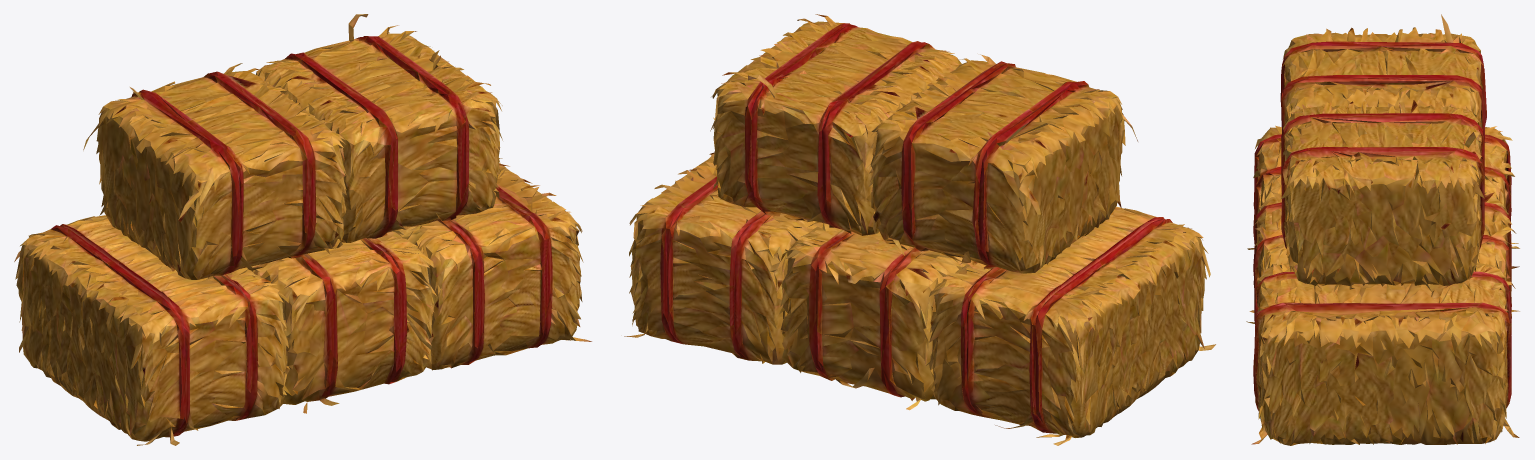
Rendered from prop_hay.glb.
The picture shows the model from 3 angles, left to right: view 1: azimuth 30°, elevation 25°; view 2: azimuth 150°, elevation 25°; view 3: azimuth 270°, elevation 25°; orthographic projection. The views are drawn at different scales.
Size of the model in its own units: 1.9 by 1.1 by 1.03.
Materials: 1 (1 with a texture image).
